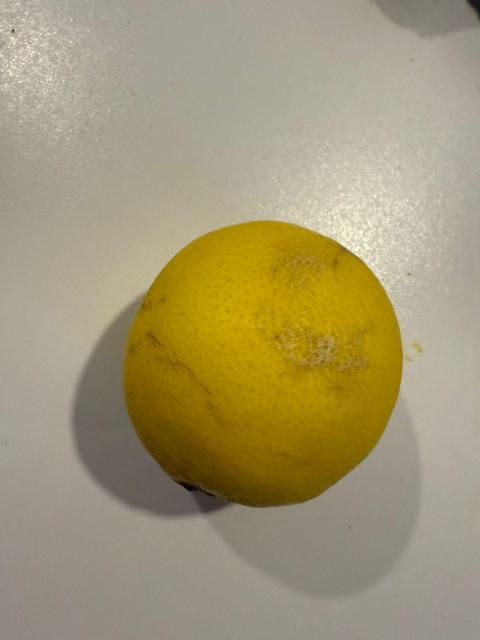Organik: (135, 228, 407, 499)
